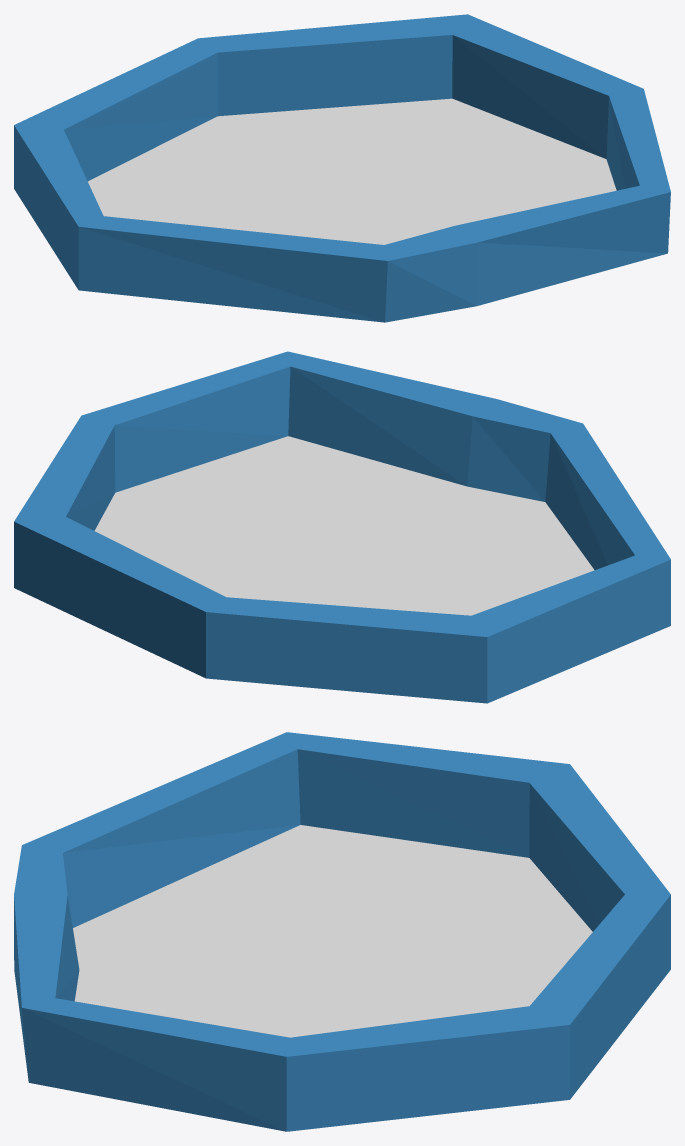
Rendered from stations_station_brain.fbx.
3 renders of one model, top to bottom at view 1: azimuth 30°, elevation 25°; view 2: azimuth 150°, elevation 25°; view 3: azimuth 270°, elevation 25°, orthographic. The views are drawn at different scales.
Parts seen in each view (by area): view 1: station_brain; view 2: station_brain; view 3: station_brain.
Boxes of the visible parts, x1,y1,x2,y2 form: station_brain: [14, 14, 670, 322]; station_brain: [14, 351, 670, 703]; station_brain: [14, 732, 670, 1131].
Bounding box in the file's own units: 0.9251 × 0.0996 × 0.7909.
